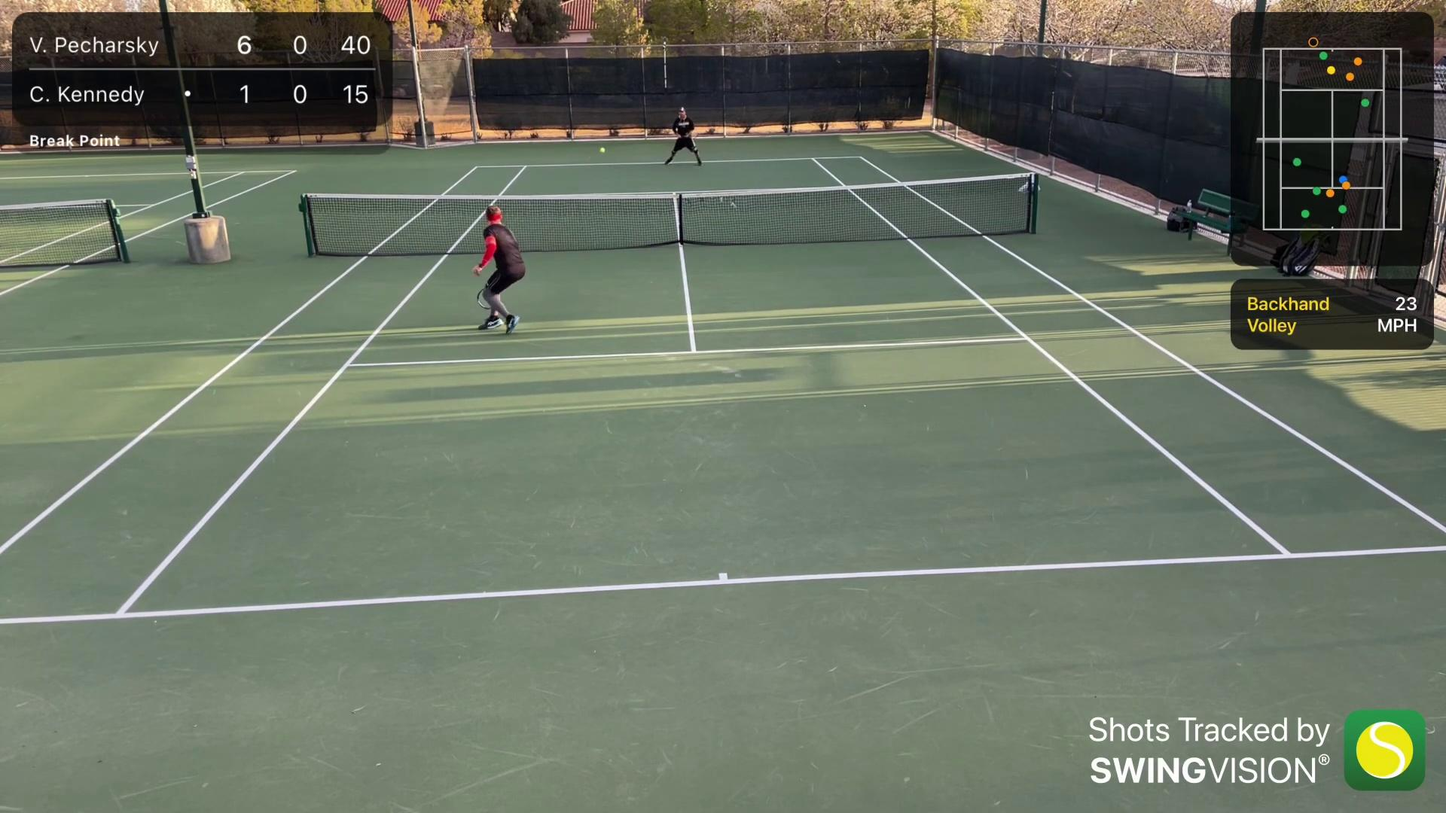ball: (600, 147, 607, 154)
